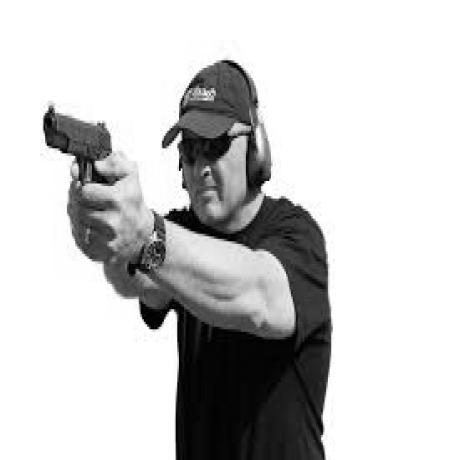Guns: (40, 103, 114, 230)
